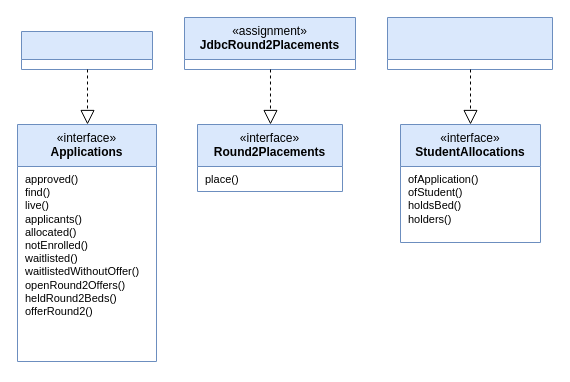
Image size: 570x382. Some labels were removed from this diagram. The shapes that lost their labels are listed below. From the top down, each one's centre as x and y in pixels, then its label:
At point 86,50: "JdbcApplications".
At point 469,43: "«assignment» JdbcStudentAllocations".
